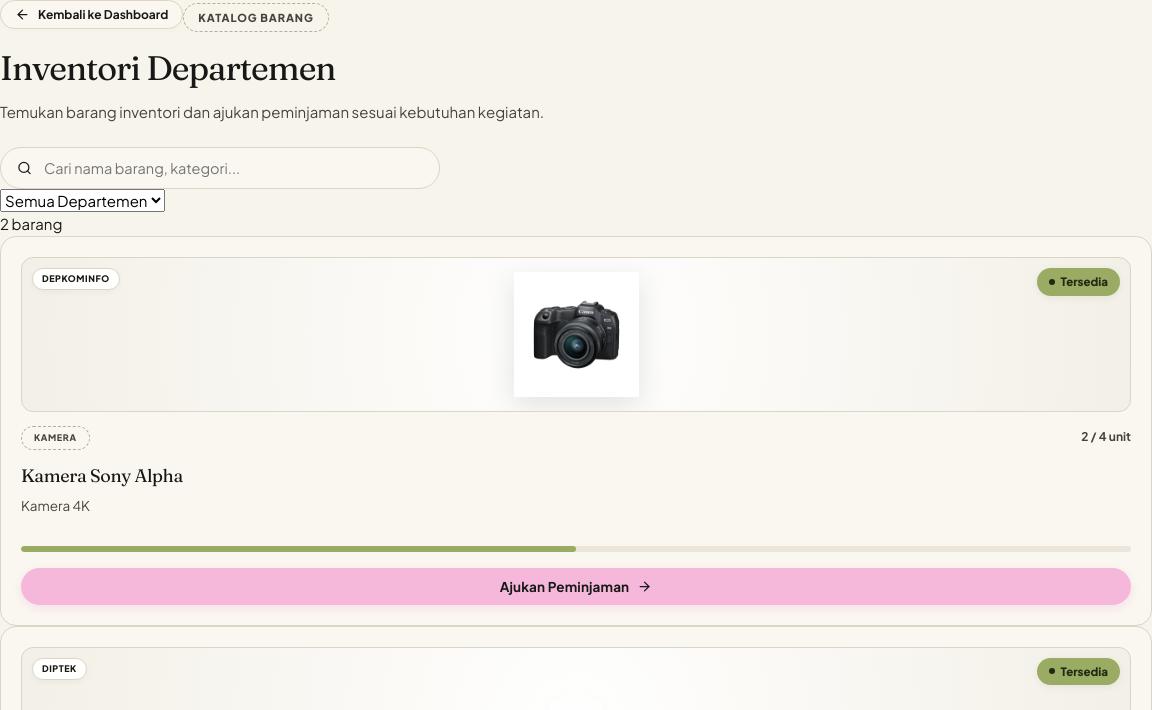
InventoryView Component (Complex UI) › displays empty state when search produces no matches
The width and height of the screenshot is (1152, 710).
Step 1. Type "Drone" into the field with placeholder "Cari nama barang, kategori..." → (232, 168), box left=42, top=158, right=423, bottom=178
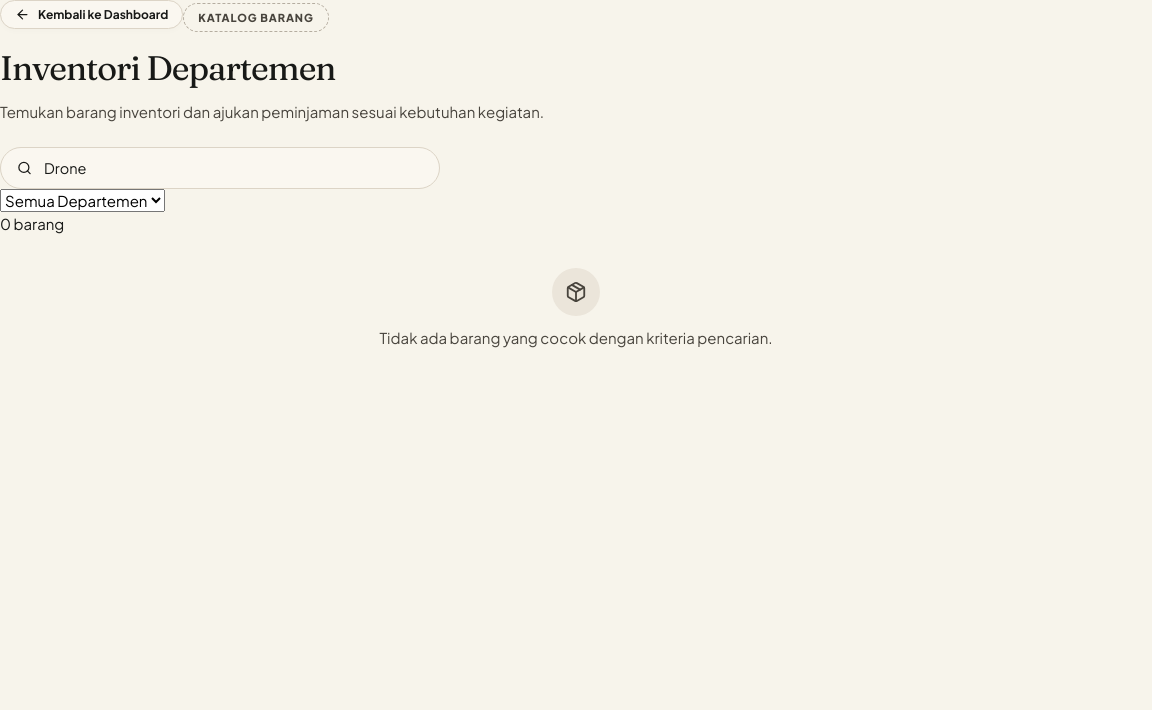
Check: the text "Tidak ada barang yang cocok dengan kriteria pencarian." is shown, box left=379, top=326, right=772, bottom=349
